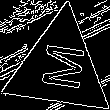M_W: (33, 41, 86, 94)
